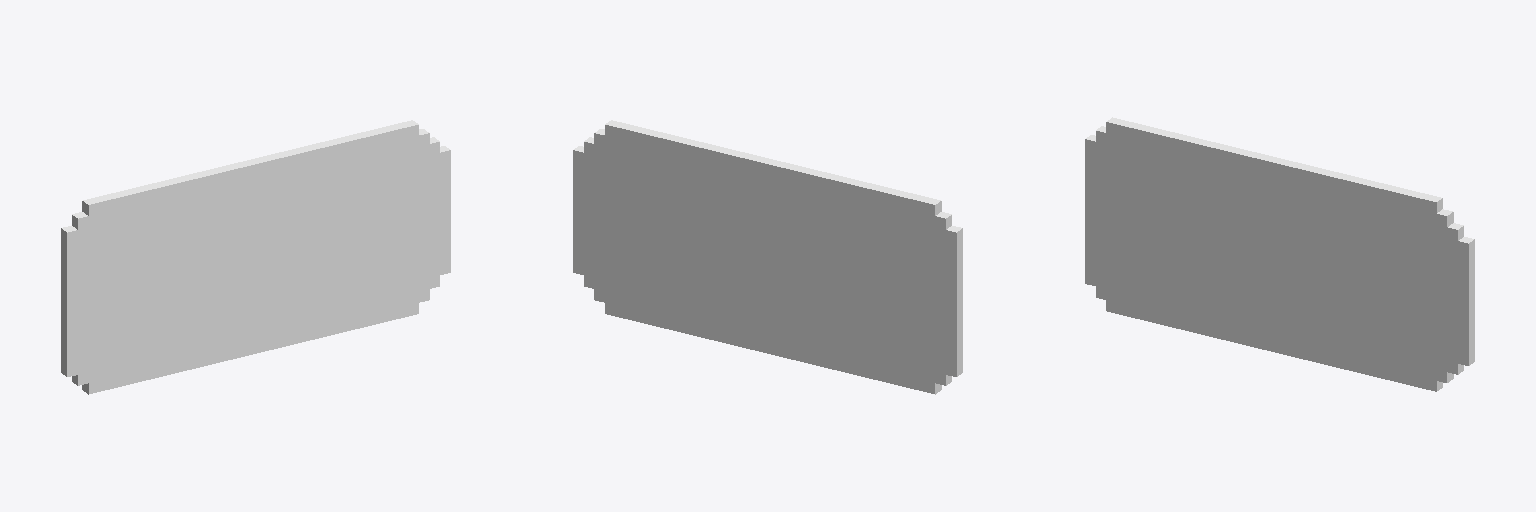
File: card.obj
3 renders of one model, left to right at view 1: azimuth 30°, elevation 25°; view 2: azimuth 150°, elevation 25°; view 3: azimuth 330°, elevation 25°, orthographic.
Visible parts, largest first — view 1: object 1; view 2: object 1; view 3: object 1.
Boxes of the visible parts, box(x1,y1,x2,y2) form: object 1: box(61, 120, 450, 394); object 1: box(573, 120, 962, 394); object 1: box(1085, 117, 1474, 391).
Size of the model in its own units: 3.6 by 1.7 by 0.1.